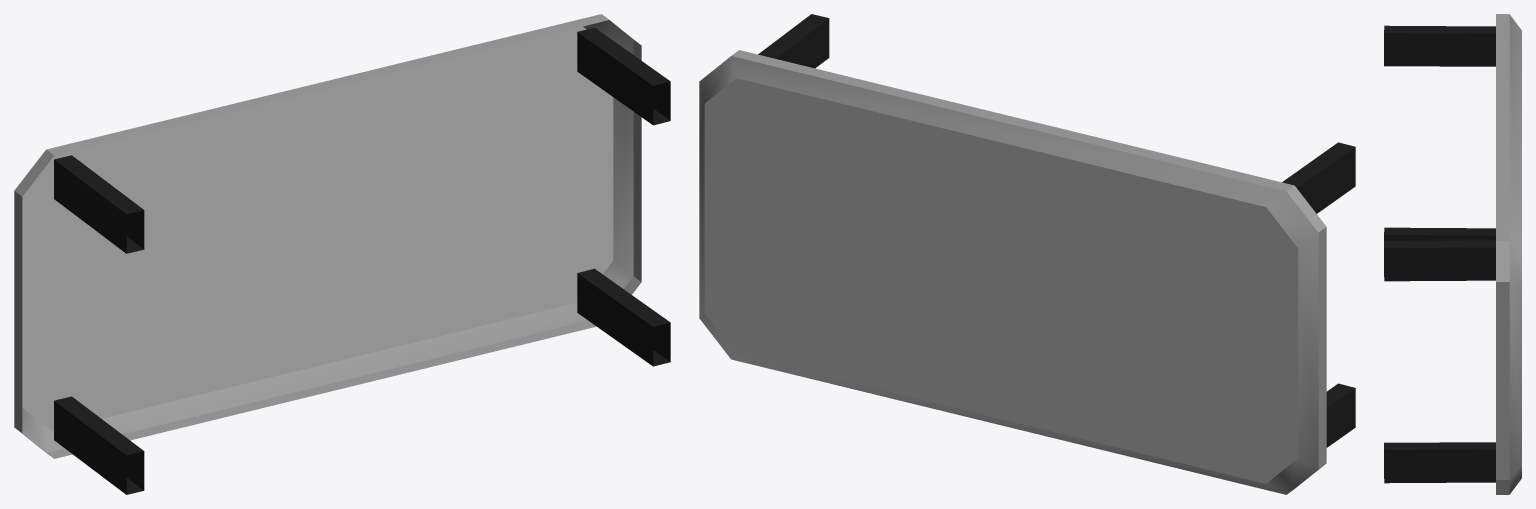
File: Desk 02.FBX
3 renders of one model, left to right at view 1: azimuth 30°, elevation 25°; view 2: azimuth 150°, elevation 25°; view 3: azimuth 270°, elevation 25°, orthographic. The views are drawn at different scales.
Visible parts, largest first — view 1: Desk 02; view 2: Desk 02; view 3: Desk 02.
Part boxes in pixels (box(x1,y1,x2,y2)): Desk 02: box(14, 14, 670, 494); Desk 02: box(699, 14, 1355, 494); Desk 02: box(1384, 14, 1521, 494).
Bounding box in the file's own units: 231 × 108 × 53.25.
1 material, 1 textured.
